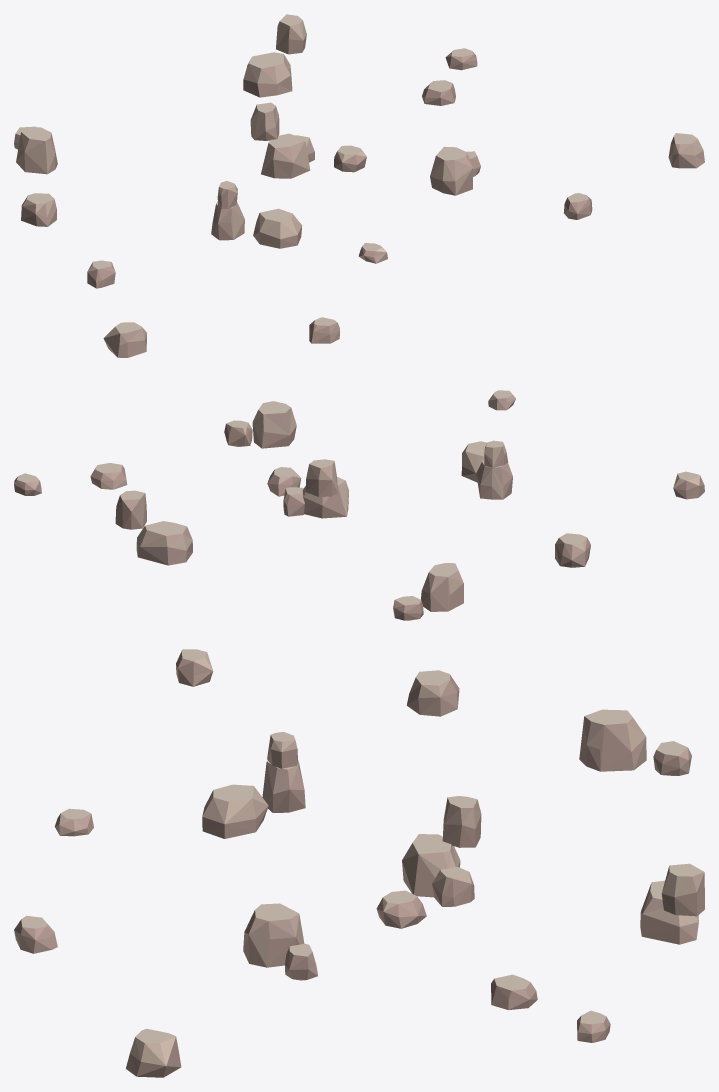
Rendered from boulders.glb.
3 views of the same model, one above another, from view 1: azimuth 30°, elevation 25°; view 2: azimuth 150°, elevation 25°; view 3: azimuth 270°, elevation 25° (orthographic). The views are drawn at different scales.
Visible parts, largest first — view 1: boulders-col; view 2: boulders-col; view 3: boulders-col.
Part boxes in pixels (box(x1,y1,x2,y2)): boulders-col: box(14, 14, 704, 288); boulders-col: box(14, 317, 704, 620); boulders-col: box(14, 649, 704, 1077).
Bounding box in the file's own units: 47.51 × 4.83 × 34.65.
